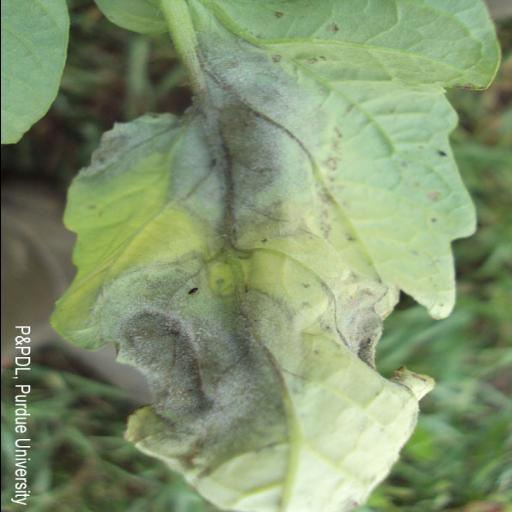Late Blight: (48, 0, 504, 512)
